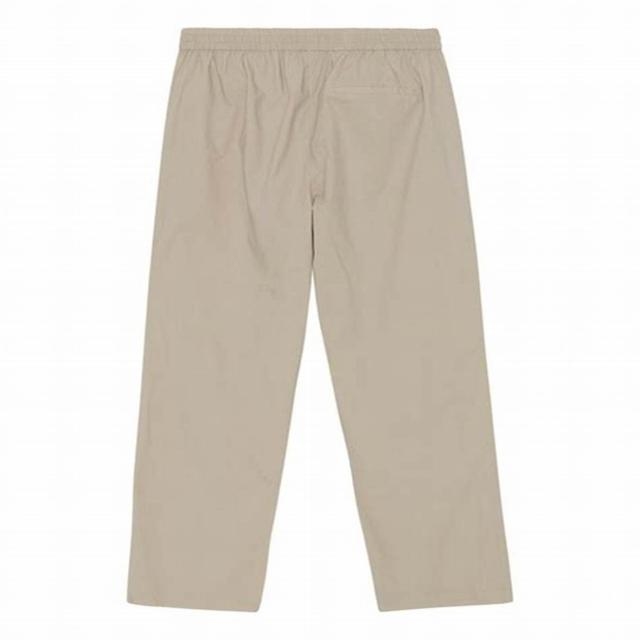long-pants: (124, 26, 516, 614)
